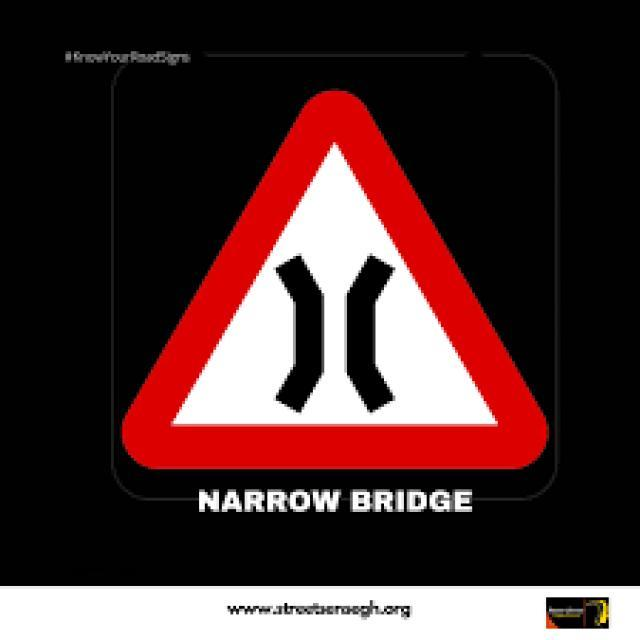narrow bridge ahead: (117, 79, 558, 478)
